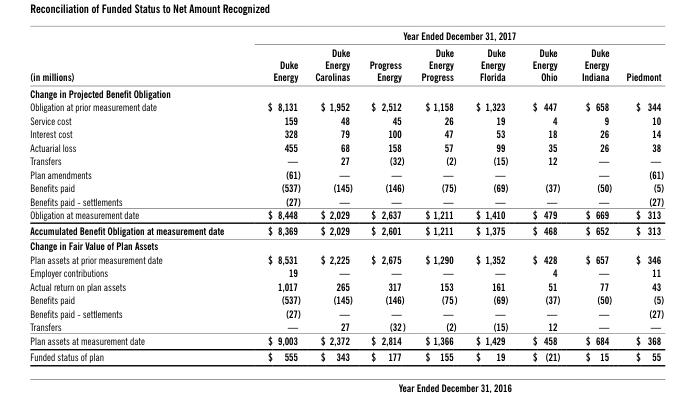table: (29, 28, 663, 362)
table column: (29, 28, 245, 362), (245, 28, 307, 362), (465, 28, 519, 362), (307, 28, 360, 362), (412, 28, 465, 362), (360, 28, 412, 362), (519, 28, 570, 362), (570, 28, 618, 362), (618, 28, 663, 362)
table column header: (29, 28, 663, 84)
table projected row header: (29, 84, 663, 99), (29, 237, 663, 252)
table row: (29, 43, 663, 84), (29, 28, 663, 43), (29, 84, 663, 99), (29, 207, 663, 222), (29, 222, 663, 237), (29, 237, 663, 252), (29, 347, 663, 362), (29, 99, 663, 113), (29, 126, 663, 140), (29, 153, 663, 167), (29, 180, 663, 194), (29, 265, 663, 279), (29, 292, 663, 306), (29, 319, 663, 333), (29, 333, 663, 347), (29, 113, 663, 126), (29, 140, 663, 153), (29, 167, 663, 180), (29, 194, 663, 207), (29, 252, 663, 265), (29, 279, 663, 292), (29, 306, 663, 319)
table spanning cell: (29, 28, 245, 84), (245, 28, 663, 43)
